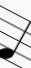F: (0, 6, 30, 66)
